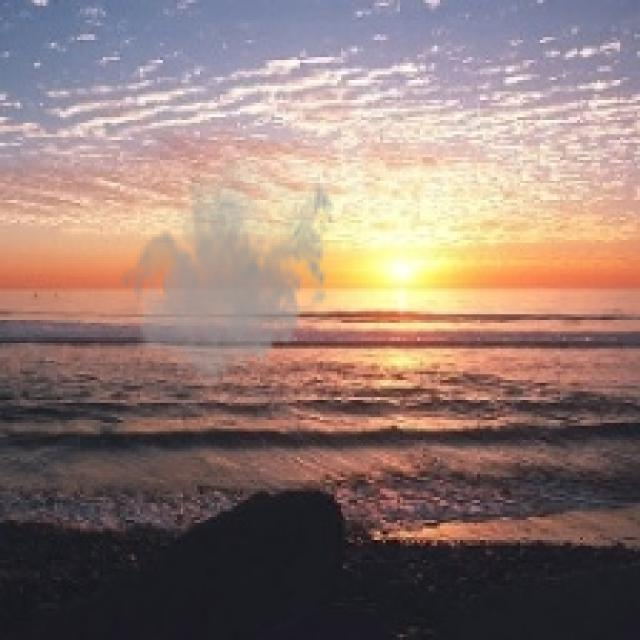smoke: (117, 148, 340, 392)
